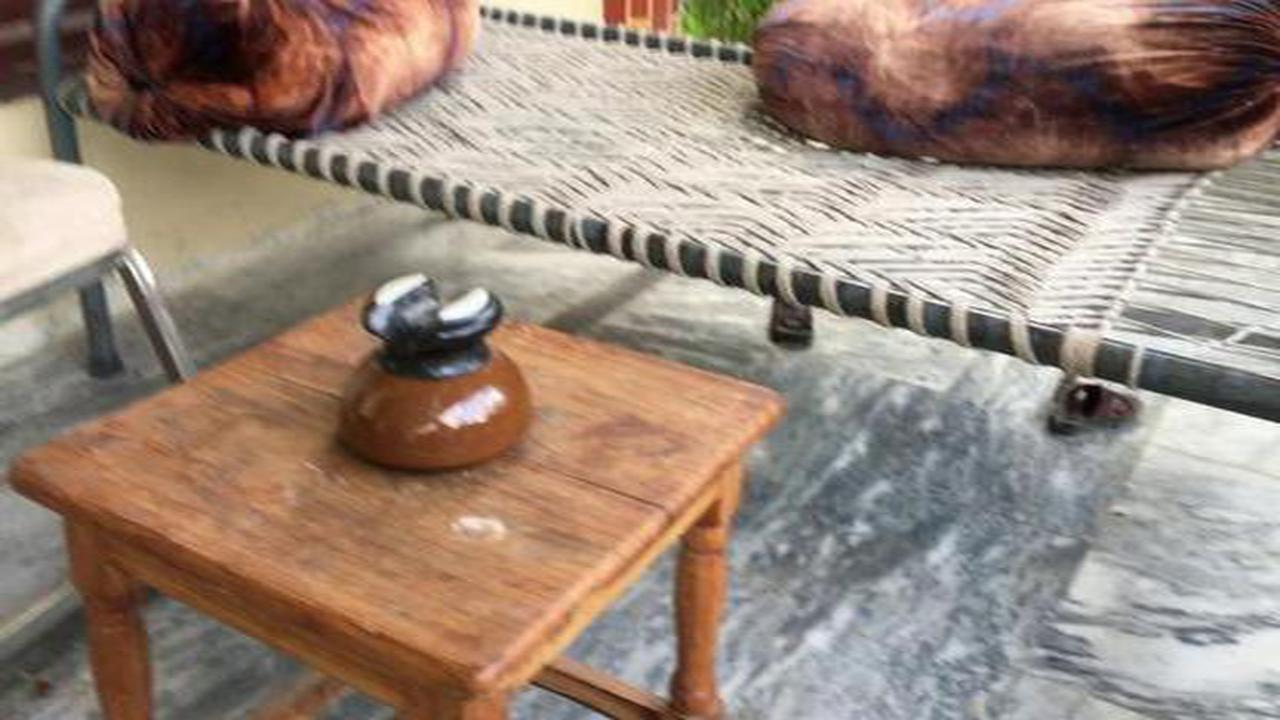insulator_pin: (305, 260, 567, 492)
